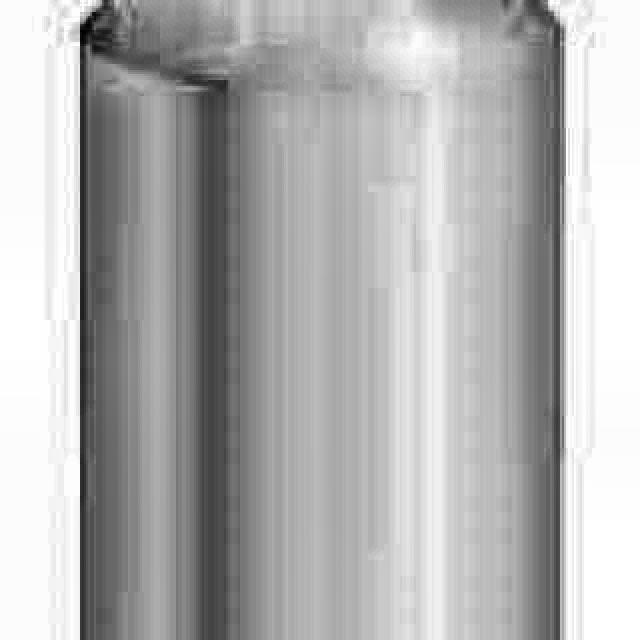metal: (83, 0, 569, 640)
